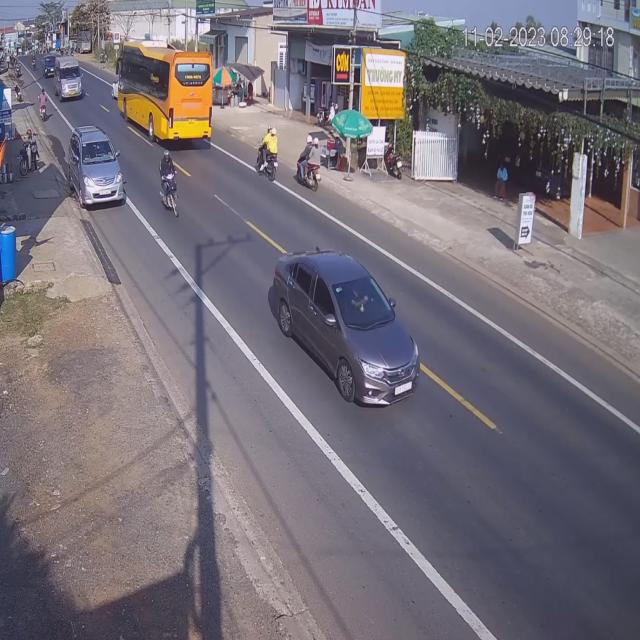bus: (116, 45, 216, 148), (57, 58, 84, 102)
car: (271, 252, 425, 411), (67, 127, 125, 211), (43, 52, 56, 78)
motorbike: (295, 138, 319, 196), (158, 151, 179, 217), (257, 128, 280, 185), (38, 90, 48, 122)
